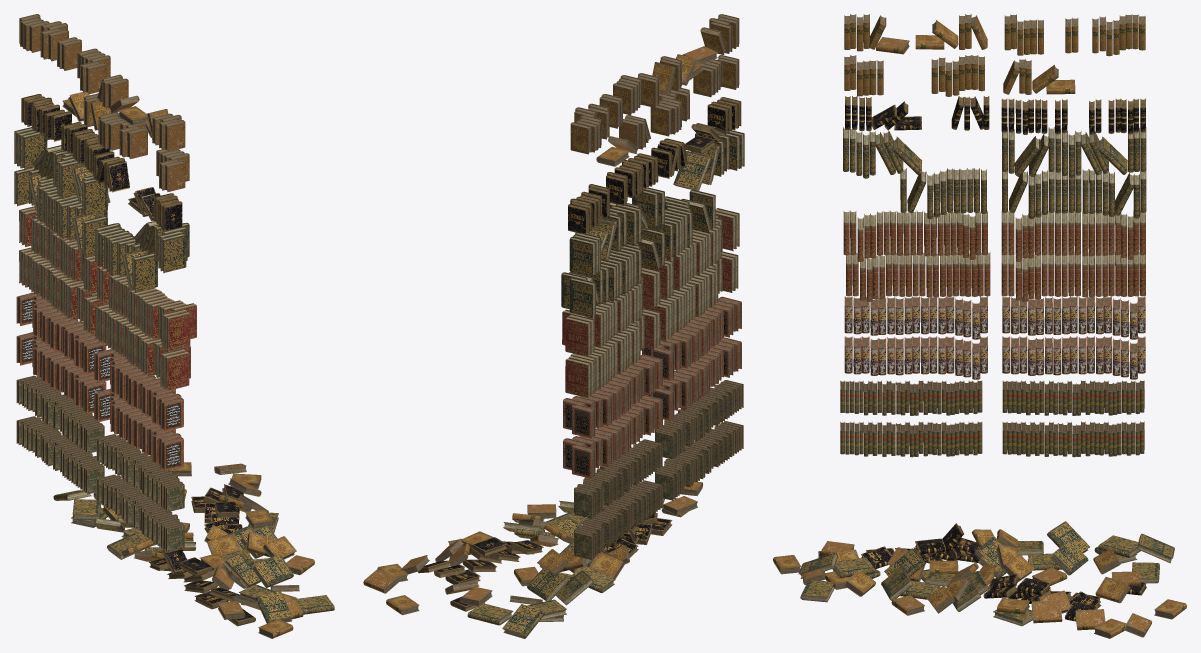
The model's file is sm39_179_bookshelsetf02a.fbx.
The picture shows the model from 3 angles, left to right: view 1: azimuth 30°, elevation 25°; view 2: azimuth 150°, elevation 25°; view 3: azimuth 270°, elevation 25°; orthographic projection.
Parts seen in each view (by area): view 1: LOD_1_Group_4_Sub_1__sm36_001_BookSet01A_A_Mat1, LOD_1_Group_3_Sub_1__sm36_001_BookSet01A_A_Mat1, LOD_1_Group_1_Sub_1__sm36_001_BookSet01A_A_Mat1, LOD_1_Group_2_Sub_1__sm36_001_BookSet01A_A_Mat1, LOD_1_Group_6_Sub_1__sm36_001_BookSet01A_A_Mat1, LOD_1_Group_9_Sub_1__sm36_001_BookSet01A_A_Mat1, LOD_1_Group_7_Sub_1__sm36_001_BookSet01A_A_Mat1, LOD_1_Group_5_Sub_1__sm36_001_BookSet01A_A_Mat1, LOD_1_Group_8_Sub_1__sm36_001_BookSet01A_A_Mat1, LOD_1_Group_0_Sub_1__sm36_001_BookSet01A_A_Mat1; view 2: LOD_1_Group_4_Sub_1__sm36_001_BookSet01A_A_Mat1, LOD_1_Group_1_Sub_1__sm36_001_BookSet01A_A_Mat1, LOD_1_Group_3_Sub_1__sm36_001_BookSet01A_A_Mat1, LOD_1_Group_2_Sub_1__sm36_001_BookSet01A_A_Mat1, LOD_1_Group_6_Sub_1__sm36_001_BookSet01A_A_Mat1, LOD_1_Group_8_Sub_1__sm36_001_BookSet01A_A_Mat1, LOD_1_Group_5_Sub_1__sm36_001_BookSet01A_A_Mat1, LOD_1_Group_9_Sub_1__sm36_001_BookSet01A_A_Mat1, LOD_1_Group_7_Sub_1__sm36_001_BookSet01A_A_Mat1, LOD_1_Group_0_Sub_1__sm36_001_BookSet01A_A_Mat1; view 3: LOD_1_Group_4_Sub_1__sm36_001_BookSet01A_A_Mat1, LOD_1_Group_3_Sub_1__sm36_001_BookSet01A_A_Mat1, LOD_1_Group_1_Sub_1__sm36_001_BookSet01A_A_Mat1, LOD_1_Group_2_Sub_1__sm36_001_BookSet01A_A_Mat1, LOD_1_Group_8_Sub_1__sm36_001_BookSet01A_A_Mat1, LOD_1_Group_6_Sub_1__sm36_001_BookSet01A_A_Mat1, LOD_1_Group_9_Sub_1__sm36_001_BookSet01A_A_Mat1, LOD_1_Group_7_Sub_1__sm36_001_BookSet01A_A_Mat1, LOD_1_Group_5_Sub_1__sm36_001_BookSet01A_A_Mat1, LOD_1_Group_0_Sub_1__sm36_001_BookSet01A_A_Mat1.
Boxes of the visible parts, left/top/right/bottom form: LOD_1_Group_4_Sub_1__sm36_001_BookSet01A_A_Mat1: left=14, top=127, right=334, bottom=623; LOD_1_Group_3_Sub_1__sm36_001_BookSet01A_A_Mat1: left=16, top=221, right=190, bottom=470; LOD_1_Group_1_Sub_1__sm36_001_BookSet01A_A_Mat1: left=19, top=14, right=303, bottom=638; LOD_1_Group_2_Sub_1__sm36_001_BookSet01A_A_Mat1: left=16, top=92, right=189, bottom=494; LOD_1_Group_6_Sub_1__sm36_001_BookSet01A_A_Mat1: left=14, top=168, right=107, bottom=255; LOD_1_Group_9_Sub_1__sm36_001_BookSet01A_A_Mat1: left=94, top=349, right=183, bottom=431; LOD_1_Group_7_Sub_1__sm36_001_BookSet01A_A_Mat1: left=96, top=474, right=184, bottom=552; LOD_1_Group_5_Sub_1__sm36_001_BookSet01A_A_Mat1: left=21, top=94, right=110, bottom=174; LOD_1_Group_8_Sub_1__sm36_001_BookSet01A_A_Mat1: left=19, top=206, right=98, bottom=294; LOD_1_Group_0_Sub_1__sm36_001_BookSet01A_A_Mat1: left=97, top=74, right=185, bottom=151; LOD_1_Group_4_Sub_1__sm36_001_BookSet01A_A_Mat1: left=363, top=187, right=743, bottom=615; LOD_1_Group_1_Sub_1__sm36_001_BookSet01A_A_Mat1: left=467, top=73, right=703, bottom=638; LOD_1_Group_3_Sub_1__sm36_001_BookSet01A_A_Mat1: left=563, top=130, right=744, bottom=478; LOD_1_Group_2_Sub_1__sm36_001_BookSet01A_A_Mat1: left=563, top=55, right=741, bottom=559; LOD_1_Group_6_Sub_1__sm36_001_BookSet01A_A_Mat1: left=561, top=228, right=664, bottom=318; LOD_1_Group_8_Sub_1__sm36_001_BookSet01A_A_Mat1: left=562, top=267, right=660, bottom=357; LOD_1_Group_5_Sub_1__sm36_001_BookSet01A_A_Mat1: left=568, top=153, right=658, bottom=234; LOD_1_Group_9_Sub_1__sm36_001_BookSet01A_A_Mat1: left=642, top=296, right=741, bottom=380; LOD_1_Group_7_Sub_1__sm36_001_BookSet01A_A_Mat1: left=655, top=421, right=743, bottom=500; LOD_1_Group_0_Sub_1__sm36_001_BookSet01A_A_Mat1: left=652, top=14, right=739, bottom=94; LOD_1_Group_4_Sub_1__sm36_001_BookSet01A_A_Mat1: left=798, top=127, right=1186, bottom=638; LOD_1_Group_3_Sub_1__sm36_001_BookSet01A_A_Mat1: left=843, top=127, right=1145, bottom=379; LOD_1_Group_1_Sub_1__sm36_001_BookSet01A_A_Mat1: left=773, top=14, right=1174, bottom=589; LOD_1_Group_2_Sub_1__sm36_001_BookSet01A_A_Mat1: left=844, top=55, right=1145, bottom=457; LOD_1_Group_8_Sub_1__sm36_001_BookSet01A_A_Mat1: left=1001, top=211, right=1145, bottom=261; LOD_1_Group_6_Sub_1__sm36_001_BookSet01A_A_Mat1: left=1002, top=169, right=1146, bottom=219; LOD_1_Group_9_Sub_1__sm36_001_BookSet01A_A_Mat1: left=844, top=296, right=987, bottom=339; LOD_1_Group_7_Sub_1__sm36_001_BookSet01A_A_Mat1: left=840, top=421, right=982, bottom=457; LOD_1_Group_5_Sub_1__sm36_001_BookSet01A_A_Mat1: left=1001, top=98, right=1145, bottom=134; LOD_1_Group_0_Sub_1__sm36_001_BookSet01A_A_Mat1: left=844, top=14, right=987, bottom=54.
Bounding box in the file's own units: 2.09 × 4.38 × 3.21.
